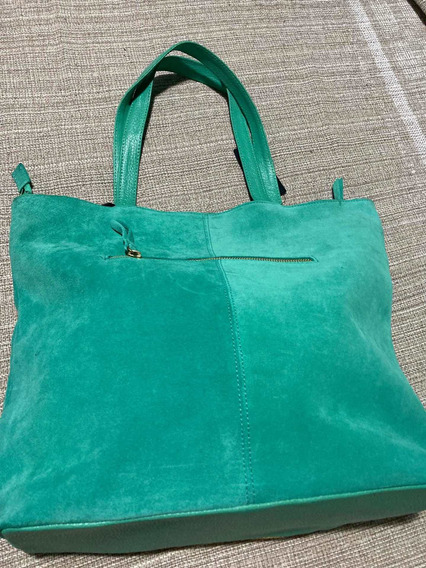cartera: (1, 38, 426, 557)
